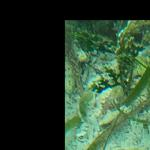dead: (68, 24, 146, 148)
